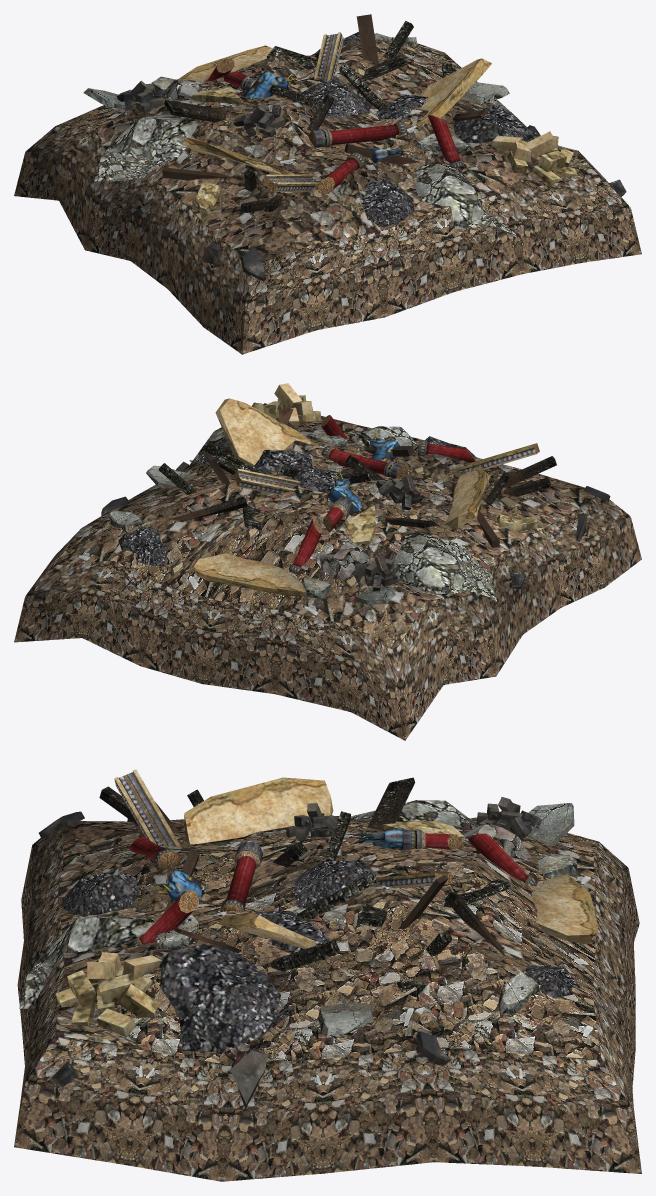
Rendered from pers_town_center_rubble.glb.
3 renders of one model, top to bottom at view 1: azimuth 30°, elevation 25°; view 2: azimuth 150°, elevation 25°; view 3: azimuth 270°, elevation 25°, orthographic. The views are drawn at different scales.
Parts seen in each view (by area): view 1: pers_town_center_rubble_part0, pers_town_center_rubble_part1; view 2: pers_town_center_rubble_part0, pers_town_center_rubble_part1; view 3: pers_town_center_rubble_part0, pers_town_center_rubble_part1.
Part boxes in pixels (x1,y1,x2,y2): pers_town_center_rubble_part0: (14, 14, 641, 354); pers_town_center_rubble_part1: (178, 32, 577, 215); pers_town_center_rubble_part0: (14, 403, 641, 740); pers_town_center_rubble_part1: (192, 383, 539, 596); pers_town_center_rubble_part0: (14, 777, 641, 1181); pers_town_center_rubble_part1: (55, 769, 598, 1037).
Bounding box in the file's own units: 6.2 × 2.41 × 6.12.
2 materials, 2 textured.
